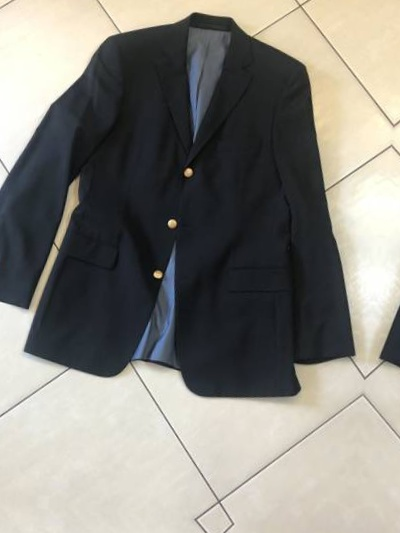Blazer: (0, 0, 400, 426), (366, 23, 400, 472)
